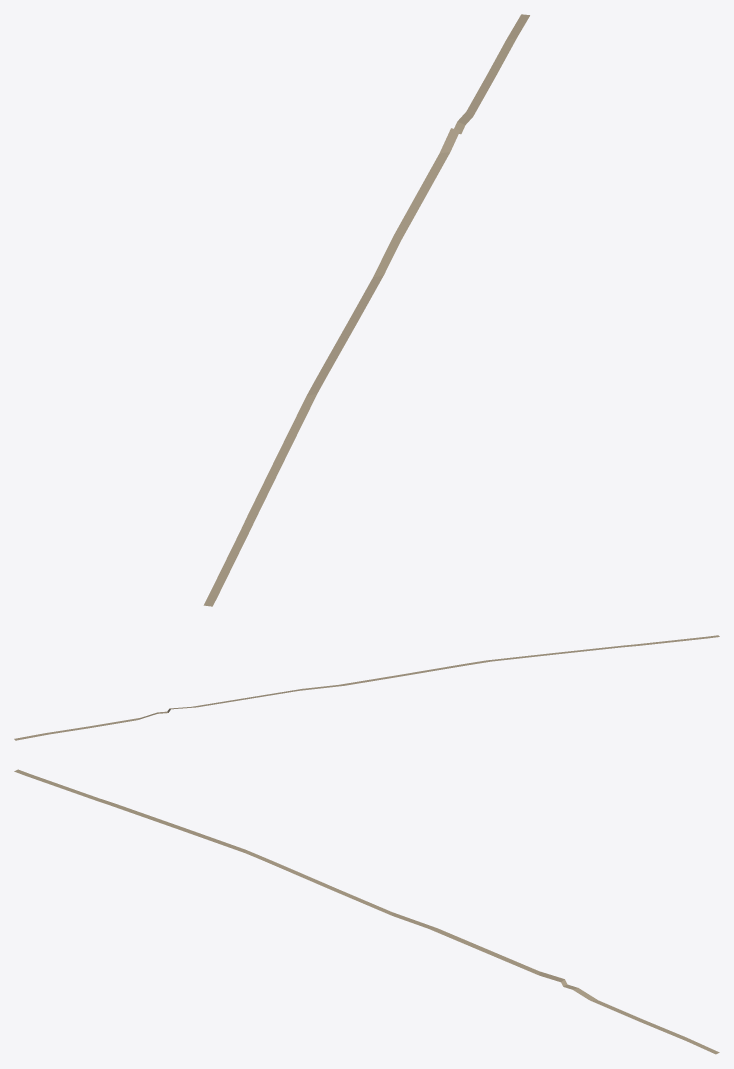
The model's file is farm_2_10_track.glb.
3 renders of one model, top to bottom at view 1: azimuth 30°, elevation 25°; view 2: azimuth 150°, elevation 25°; view 3: azimuth 270°, elevation 25°, orthographic. The views are drawn at different scales.
Parts seen in each view (by area): view 1: geometry_0; view 2: geometry_0; view 3: geometry_0.
Boxes of the visible parts, x1,y1,x2,y2 form: geometry_0: (203, 14, 529, 606); geometry_0: (14, 635, 719, 740); geometry_0: (14, 769, 719, 1054).
Size of the model in its own units: 352 by 11.93 by 384.
